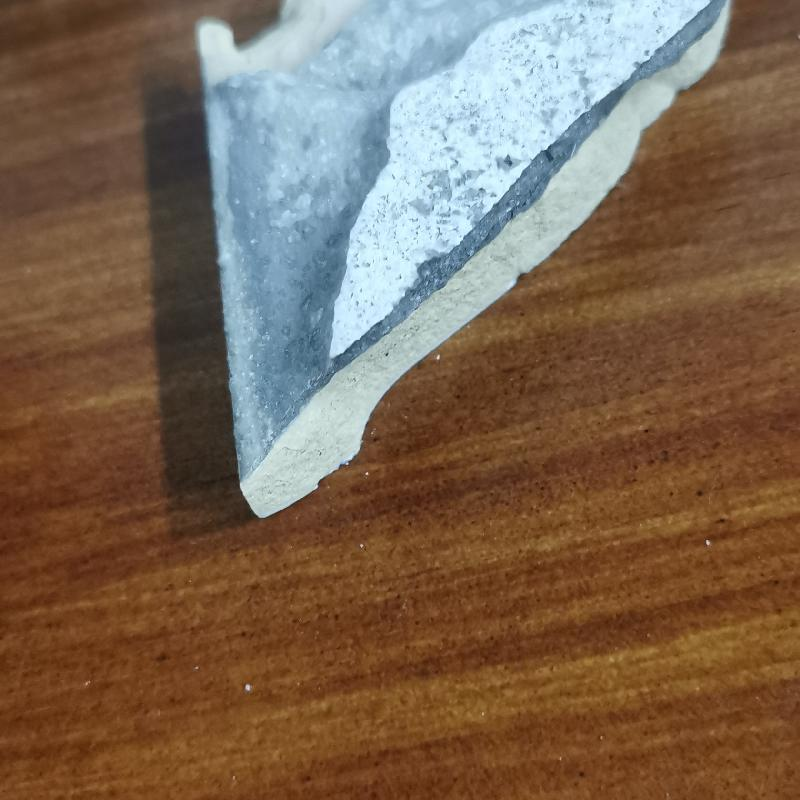tile: (185, 0, 729, 522)
